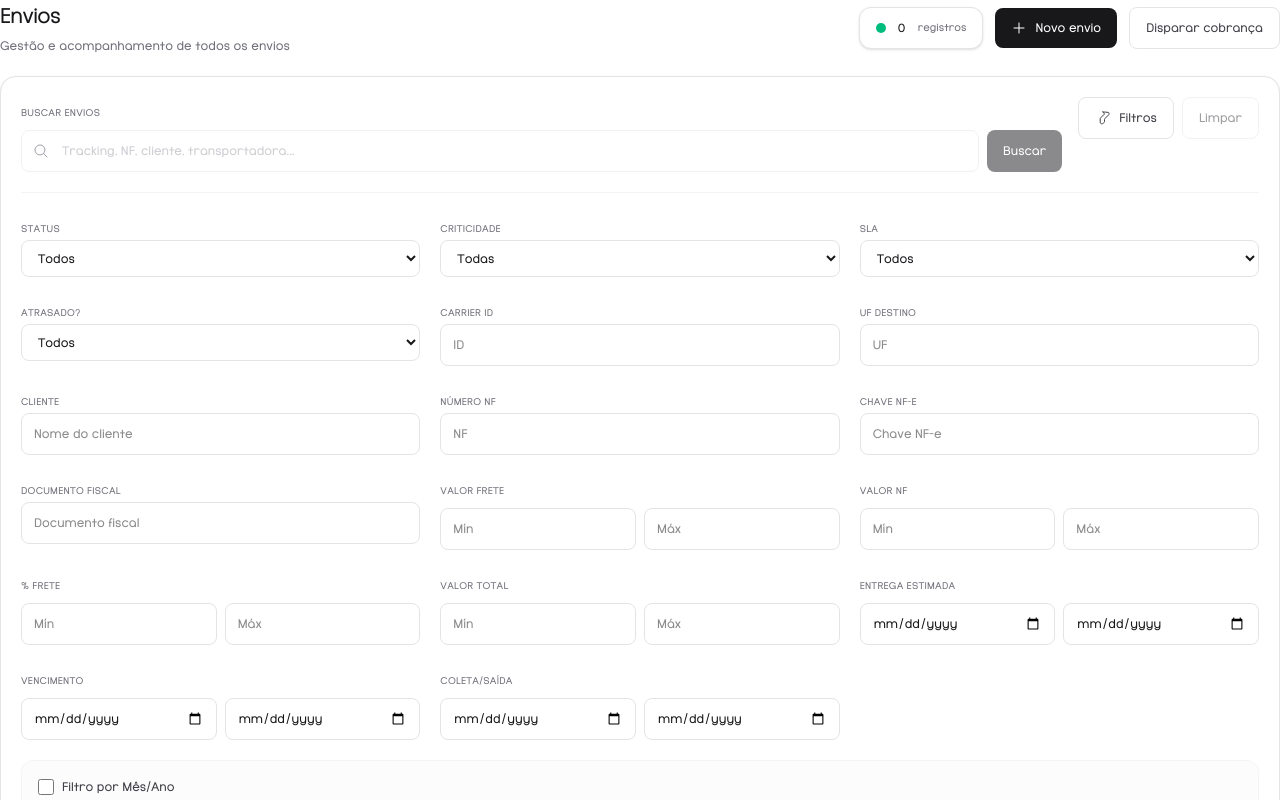
Shipments create modal › Deve abrir modal ao clicar em Novo envio
The image size is (1280, 800).
Click the button "Novo envio": (1056, 28) [995,8,1117,48]
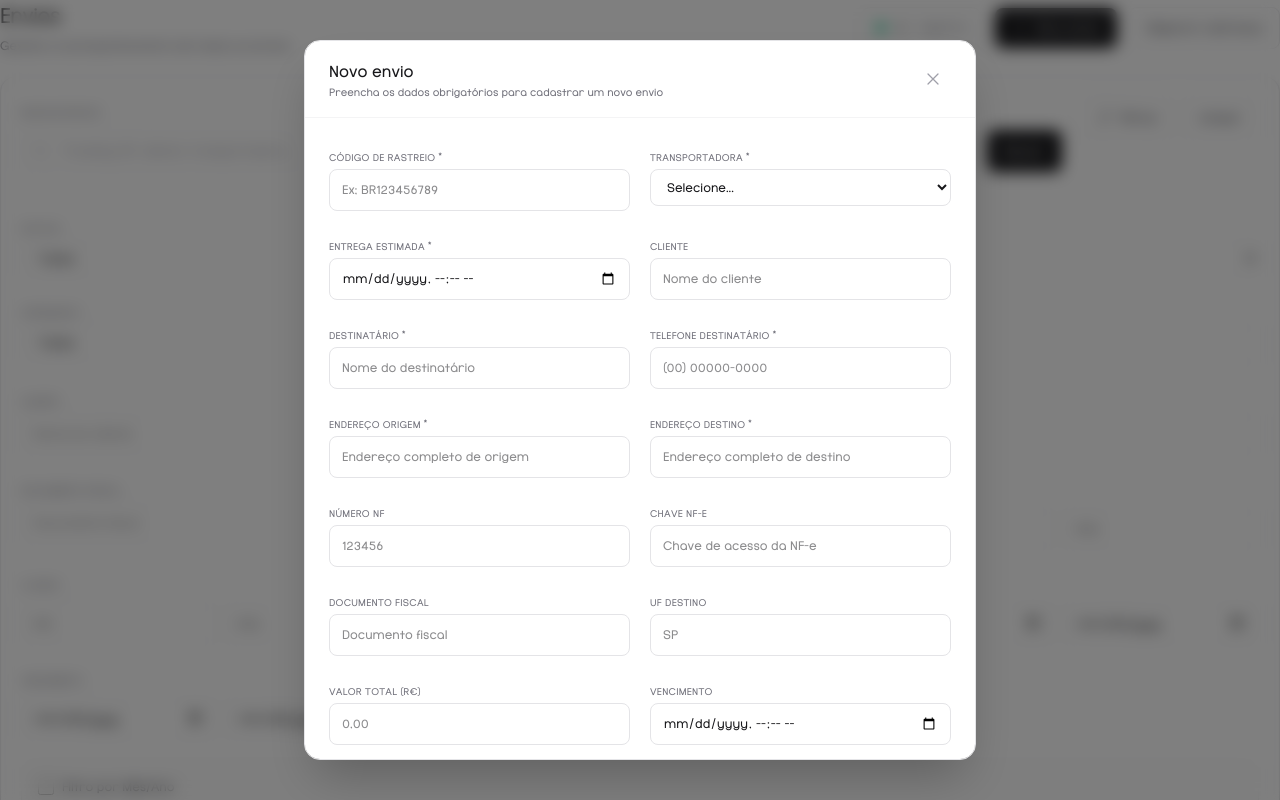
expect the text "Código de rastreio *" is shown: met, box [329,153,442,162]
